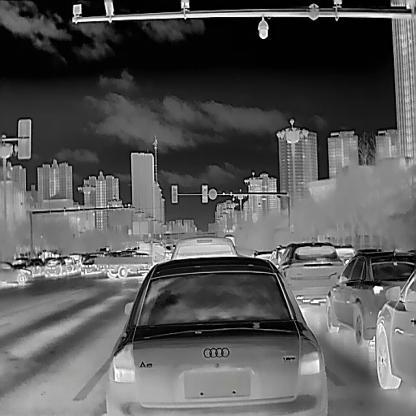car: (105, 255, 327, 416), (326, 249, 415, 345), (374, 267, 415, 389), (274, 241, 343, 296), (93, 241, 166, 277), (170, 236, 241, 260), (0, 260, 32, 284), (80, 250, 106, 274), (44, 256, 65, 276)
